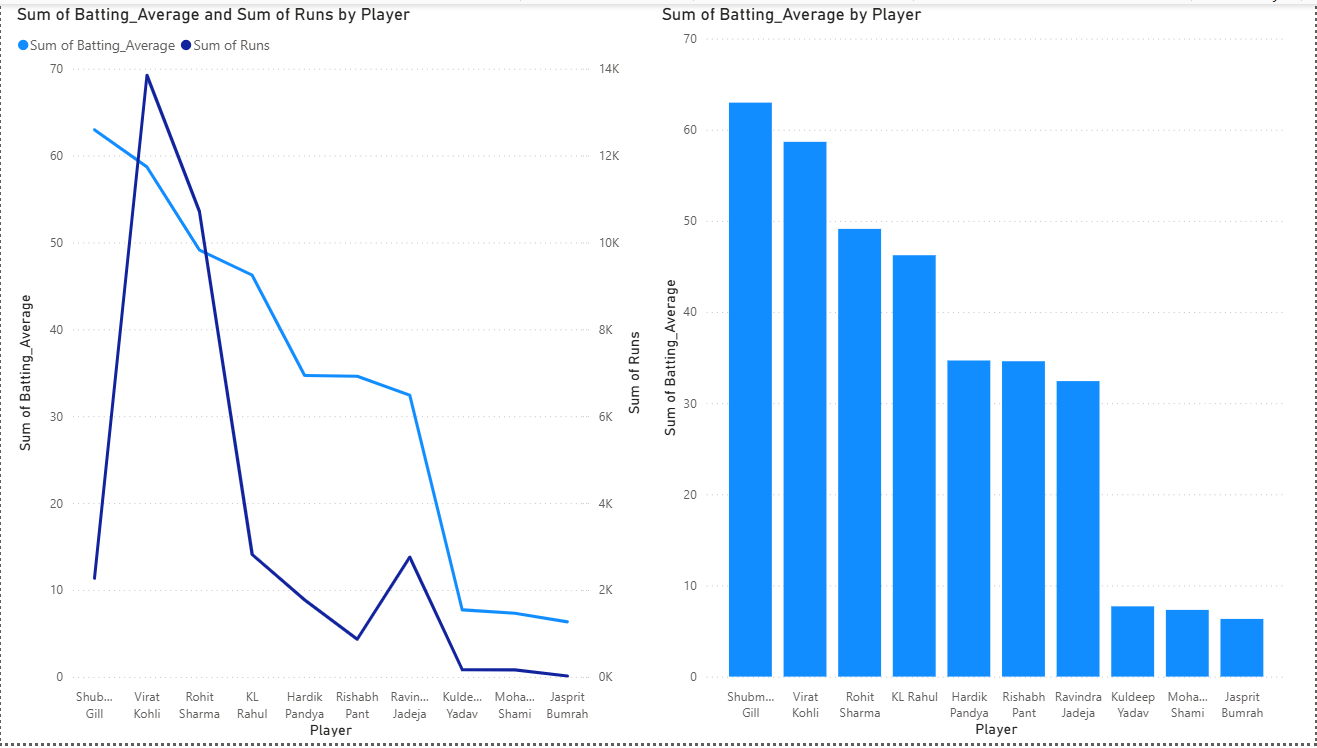

Layout of this report page (visuals, bound fields, positions):
{"tool":"powerbi","page":{"name":"Page 2","canvas":[1280,720],"ordinal":1},"visuals":[{"type":"lineChart","fields":{"Y":["Sum(indian_cricket_team_dataset (1).Batting_Average)"],"Category":["indian_cricket_team_dataset (1).Player"],"Y2":["Sum(indian_cricket_team_dataset (1).Runs)"]},"box":[10.6,0,617.8,719.2],"z":0},{"type":"lineClusteredColumnComboChart","fields":{"Category":["indian_cricket_team_dataset (1).Player"],"Y":["Sum(indian_cricket_team_dataset (1).Batting_Average)"]},"box":[639,0,618,719],"z":1000}]}

Visuals, with their boxes in screenshot pixels (x1, y1, x2, y2), scaled from the page's 1280x720 canvas onto the 1317x748 screenshot:
lineChart - Sum(indian_cricket_team_dataset (1).Batting_Average) x indian_cricket_team_dataset (1).Player: l=11, t=0, r=647, b=747
lineClusteredColumnComboChart - indian_cricket_team_dataset (1).Player x Sum(indian_cricket_team_dataset (1).Batting_Average): l=657, t=0, r=1293, b=747
